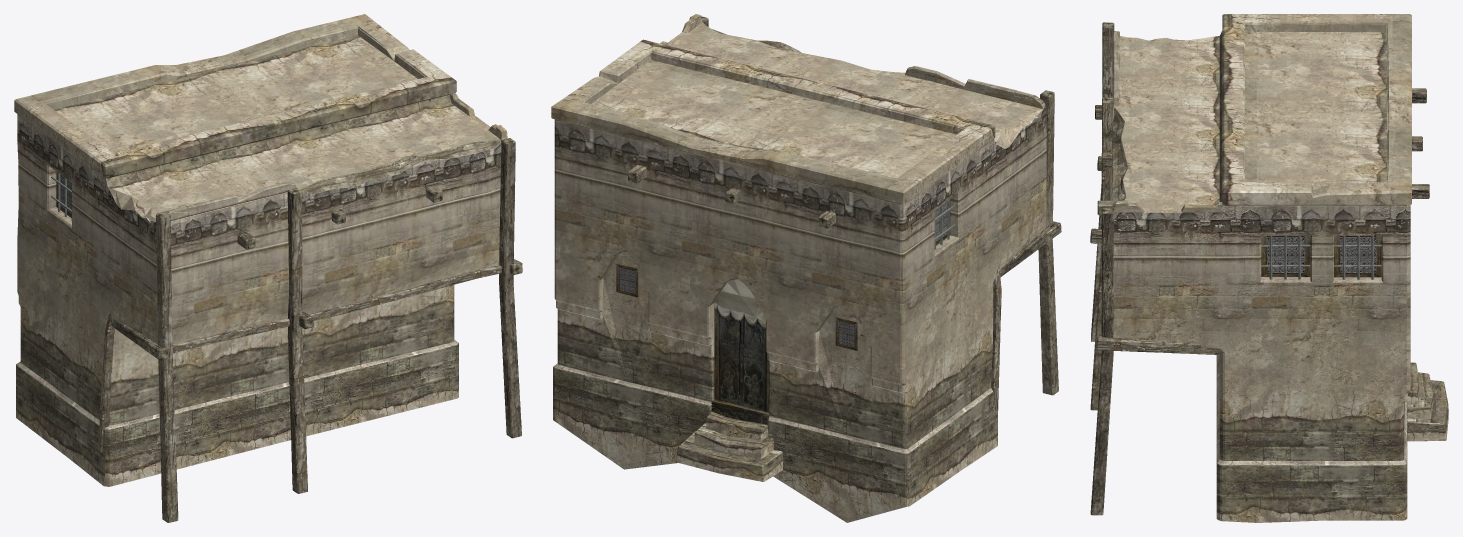
Rendered from TW2_5_HOUSE_01_7-transformed.glb.
3 views of the same model, side by side, from view 1: azimuth 30°, elevation 25°; view 2: azimuth 150°, elevation 25°; view 3: azimuth 270°, elevation 25° (orthographic). The views are drawn at different scales.
Parts seen in each view (by area): view 1: default; view 2: default; view 3: default.
Boxes of the visible parts, x1,y1,x2,y2 form: default: [14, 14, 522, 522]; default: [551, 14, 1061, 522]; default: [1090, 14, 1448, 522].
Size of the model in its own units: 8.89 by 8.11 by 7.31.
3 materials, 3 textured.
